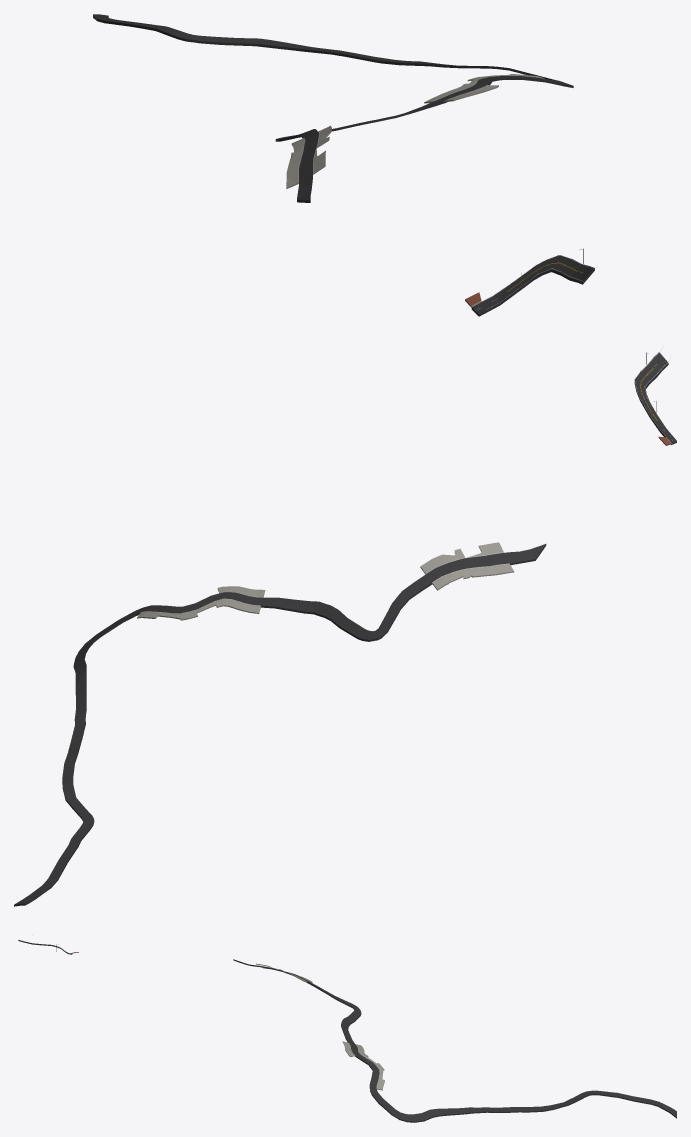
Rendered from 16-54727-29720.48ede489.glb.
3 renders of one model, top to bottom at view 1: azimuth 30°, elevation 25°; view 2: azimuth 150°, elevation 25°; view 3: azimuth 270°, elevation 25°, orthographic. The views are drawn at different scales.
Size of the model in its own units: 221 by 138 by 587.
